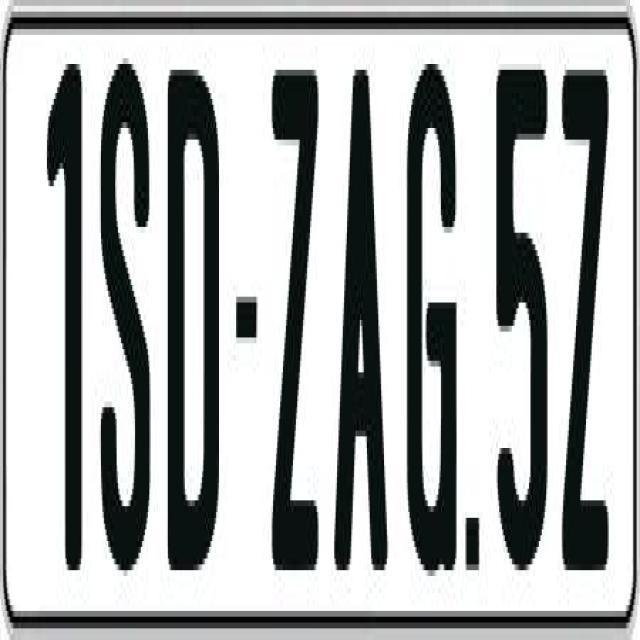1: (46, 64, 86, 582)
5: (497, 70, 554, 576)
A: (334, 64, 391, 564)
D: (165, 58, 222, 570)
G: (405, 53, 463, 559)
S: (101, 47, 149, 553)
Z: (559, 58, 615, 576), (270, 59, 318, 565)
